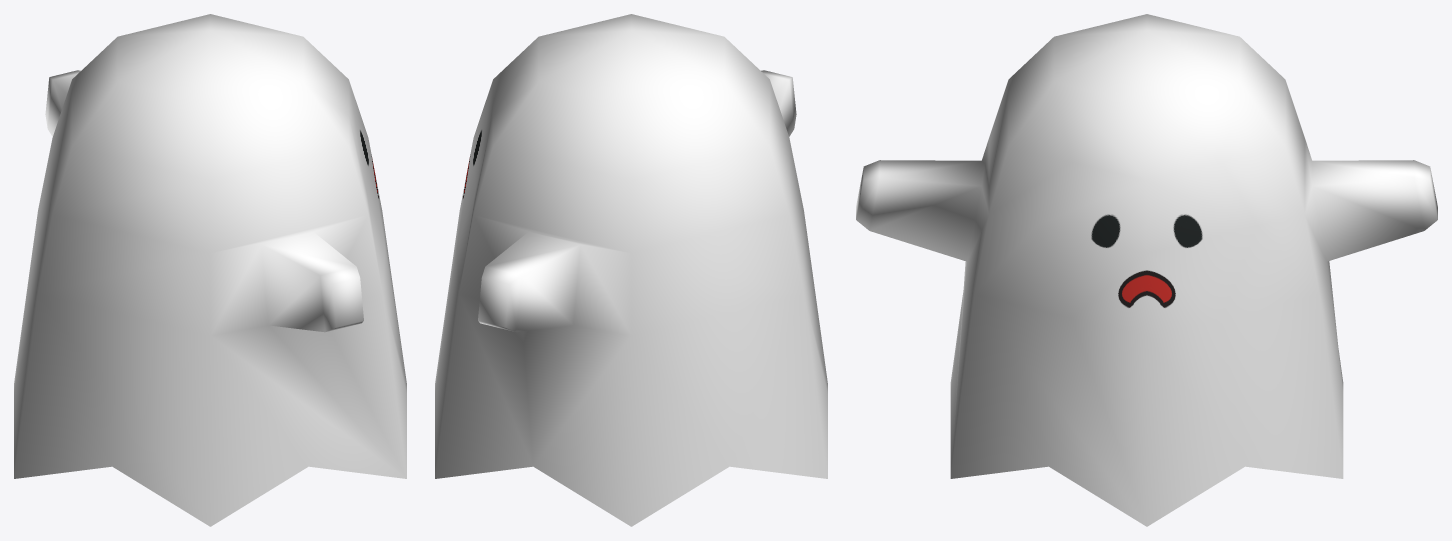
The model's file is gost02 1.fbx.
3 views of the same model, side by side, from view 1: azimuth 30°, elevation 25°; view 2: azimuth 150°, elevation 25°; view 3: azimuth 270°, elevation 25° (orthographic).
Visible parts, largest first — view 1: Sphere.001; view 2: Sphere.001; view 3: Sphere.001.
Boxes of the visible parts, x1=… form: Sphere.001: x1=14, y1=14, x2=406, y2=526; Sphere.001: x1=435, y1=14, x2=827, y2=526; Sphere.001: x1=856, y1=14, x2=1437, y2=526.
Size of the model in its own units: 243 by 236 by 311.
Materials: 1 (1 with a texture image).
